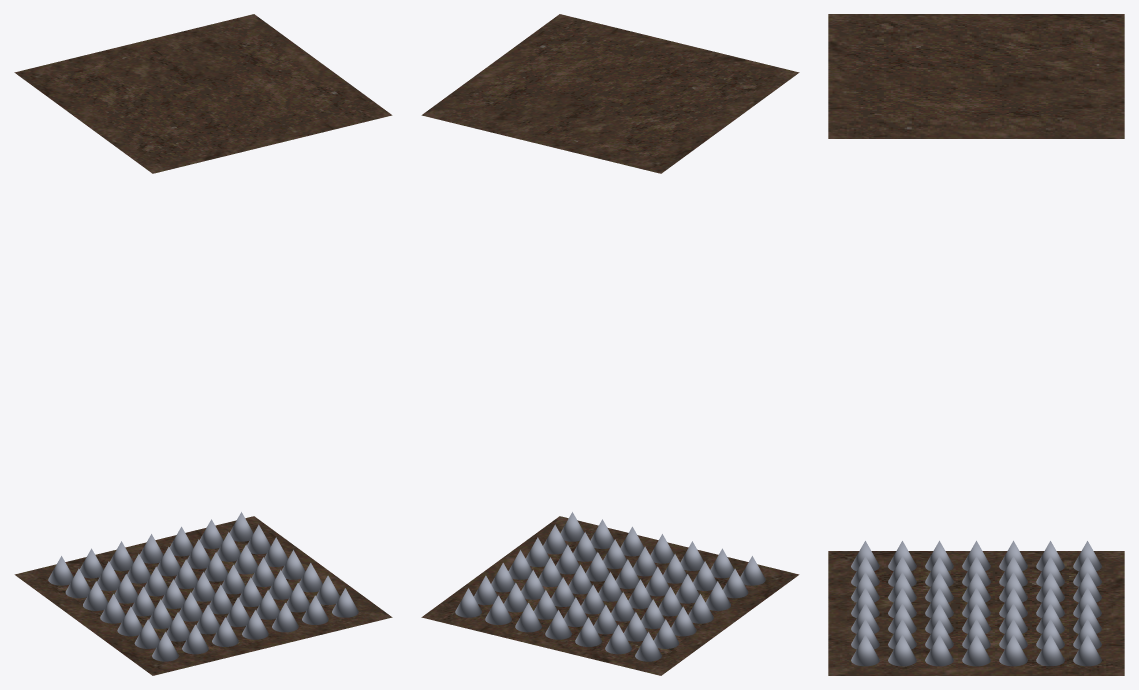
The model's file is room_spikes.glb.
3 renders of one model, left to right at view 1: azimuth 30°, elevation 25°; view 2: azimuth 150°, elevation 25°; view 3: azimuth 270°, elevation 25°, orthographic. The views are drawn at different scales.
Parts seen in each view (by area): view 1: Room_Spikes; view 2: Room_Spikes; view 3: Room_Spikes.
Part boxes in pixels (bbox=[...]): Room_Spikes: bbox=[14, 14, 392, 675]; Room_Spikes: bbox=[421, 14, 799, 675]; Room_Spikes: bbox=[828, 14, 1124, 675].
Size of the model in its own units: 2 by 4.01 by 2.
Materials: 2 (2 with a texture image).
